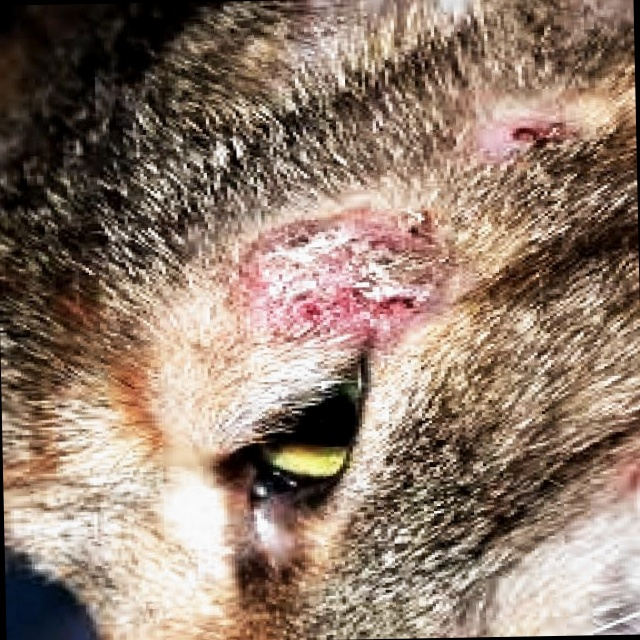ringworm: (200, 205, 447, 367), (487, 111, 573, 156)
